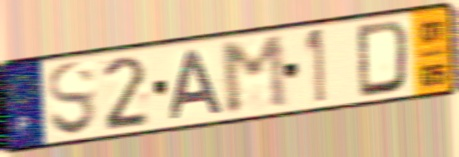1: (302, 24, 329, 107)
2: (100, 54, 154, 134)
A: (168, 47, 227, 122)
D: (355, 17, 412, 100)
M: (217, 32, 293, 118)
S: (45, 59, 99, 139)
